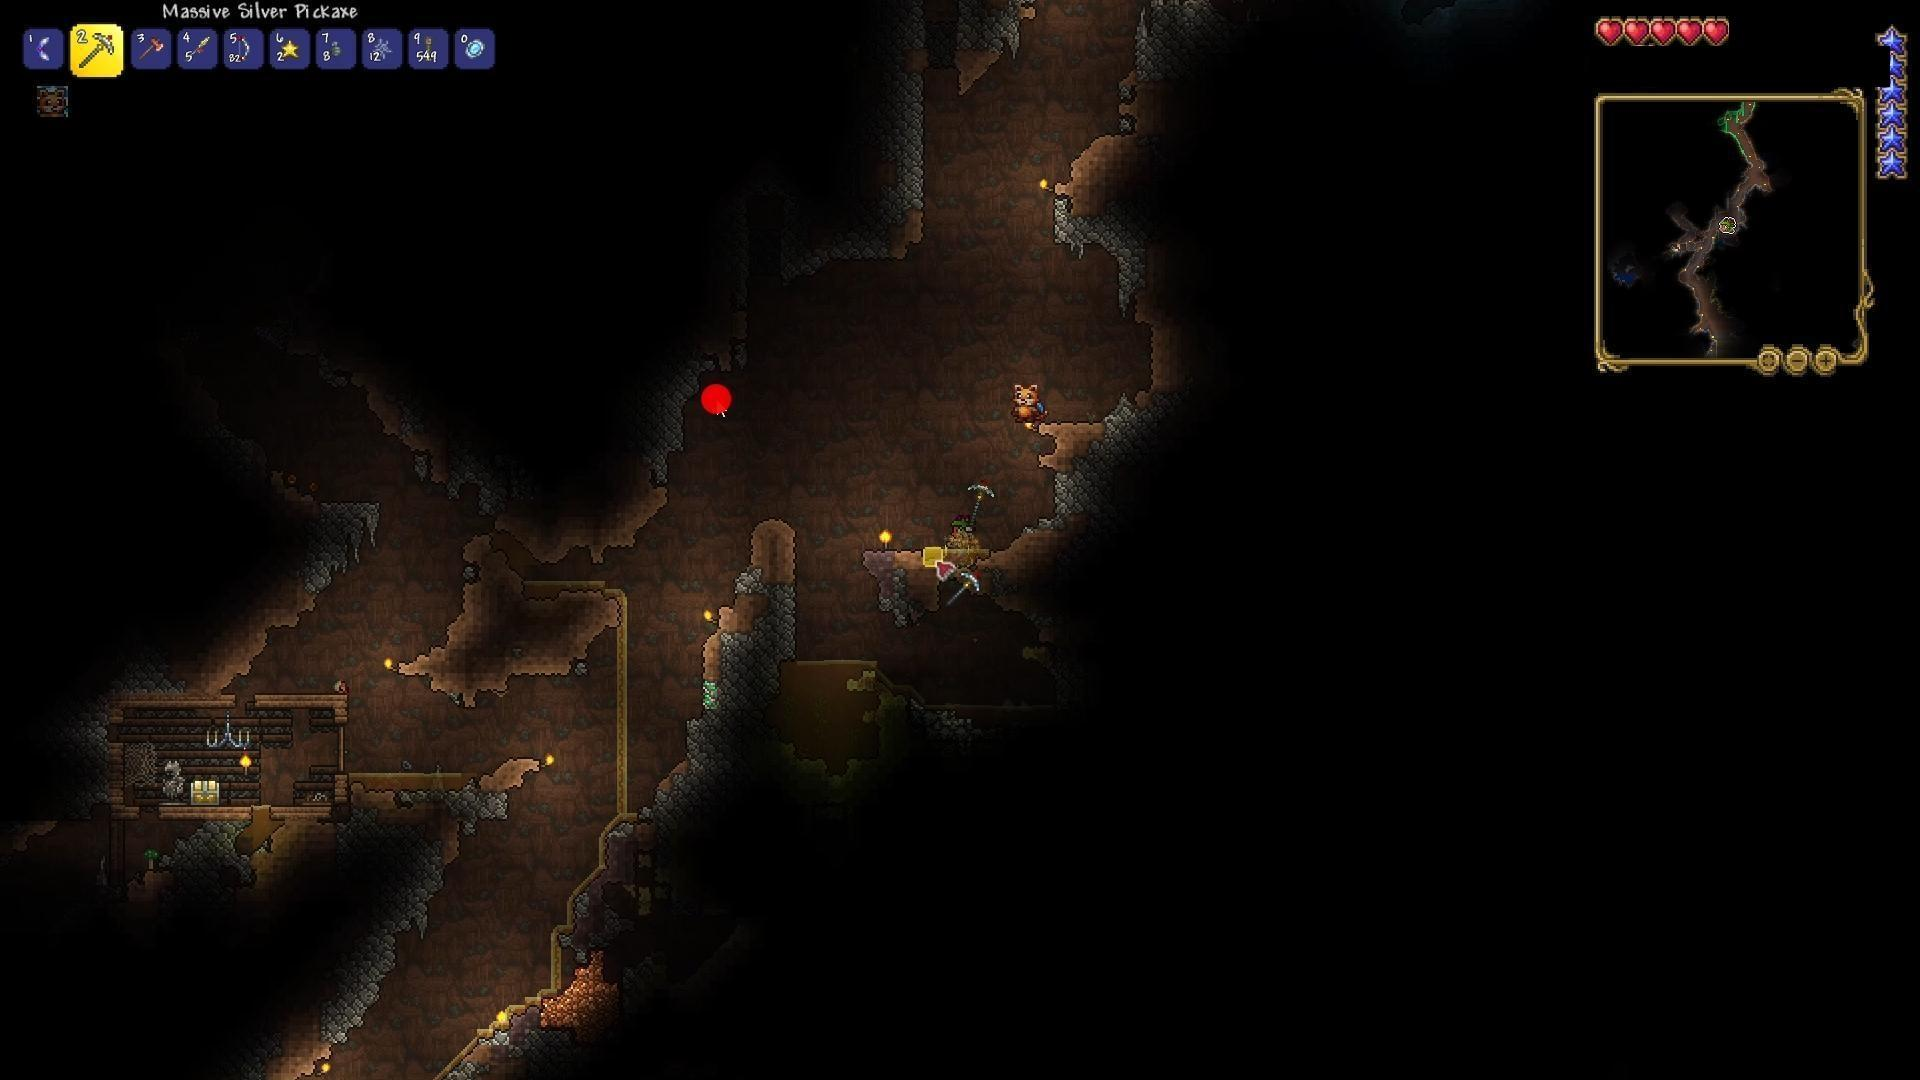heart: (1702, 17, 1733, 51), (1593, 16, 1626, 46), (1676, 15, 1704, 50), (1650, 16, 1676, 49), (1625, 15, 1651, 44)
liquid: (516, 564, 611, 597), (802, 641, 869, 687), (948, 690, 1042, 723)
stone: (862, 70, 940, 220), (782, 204, 902, 285), (712, 568, 795, 680), (1054, 410, 1134, 520), (1047, 203, 1159, 276), (676, 715, 781, 790), (629, 799, 713, 884), (1138, 0, 1226, 80), (173, 811, 255, 889), (327, 948, 385, 1056), (301, 502, 382, 575), (646, 378, 703, 476), (390, 870, 443, 971), (947, 0, 1034, 61), (334, 814, 409, 866), (440, 778, 513, 832), (59, 698, 108, 770), (115, 657, 189, 700)
